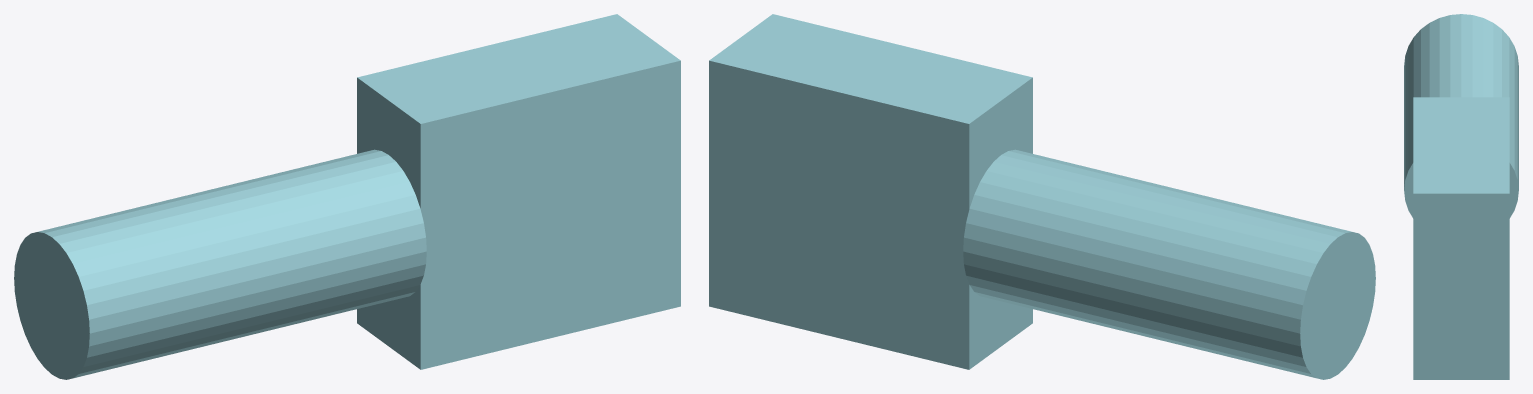
Rendered from cylinder_brush_v11008.obj.
3 views of the same model, side by side, from view 1: azimuth 30°, elevation 25°; view 2: azimuth 150°, elevation 25°; view 3: azimuth 270°, elevation 25° (orthographic). The views are drawn at different scales.
Bounding box in the file's own units: 0.2111 × 0.0831 × 0.0464.
Materials: 1 (1 with a texture image).
